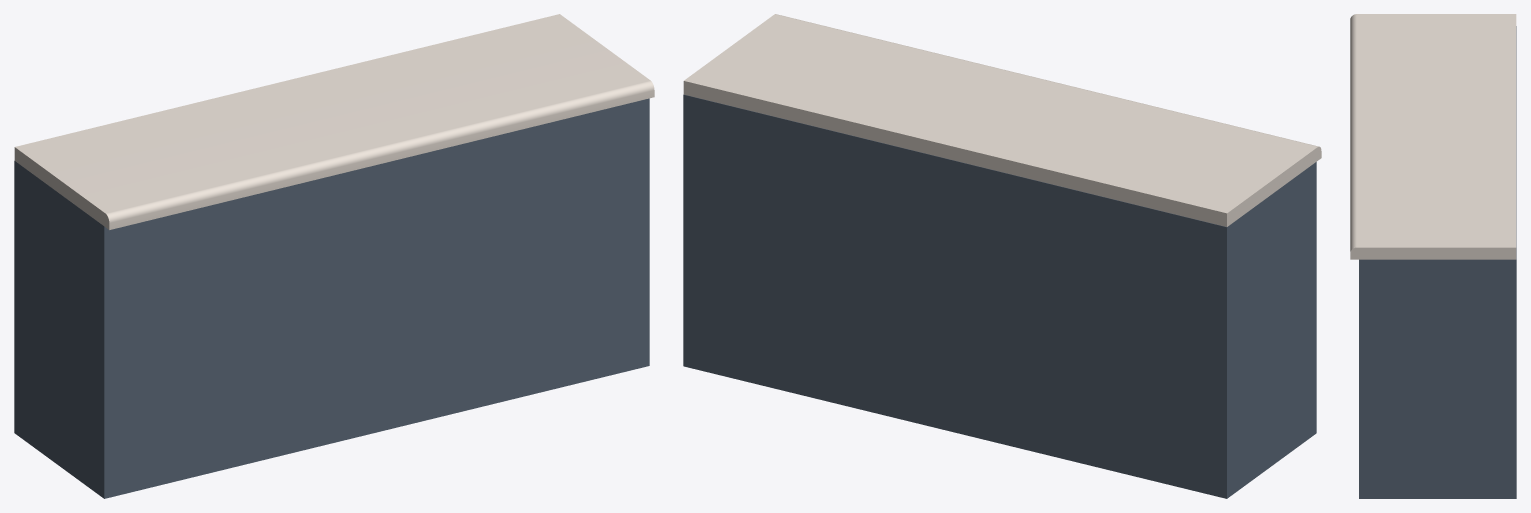
Rendered from table.fbx.
3 renders of one model, left to right at view 1: azimuth 30°, elevation 25°; view 2: azimuth 150°, elevation 25°; view 3: azimuth 270°, elevation 25°, orthographic. The views are drawn at different scales.
Parts seen in each view (by area): view 1: polySurface22; view 2: polySurface22; view 3: polySurface22.
Part boxes in pixels (x1,y1,x2,y2): polySurface22: (14, 14, 654, 498); polySurface22: (683, 14, 1321, 498); polySurface22: (1350, 14, 1516, 498).
Size of the model in its own units: 15.52 by 7.79 by 4.68.
